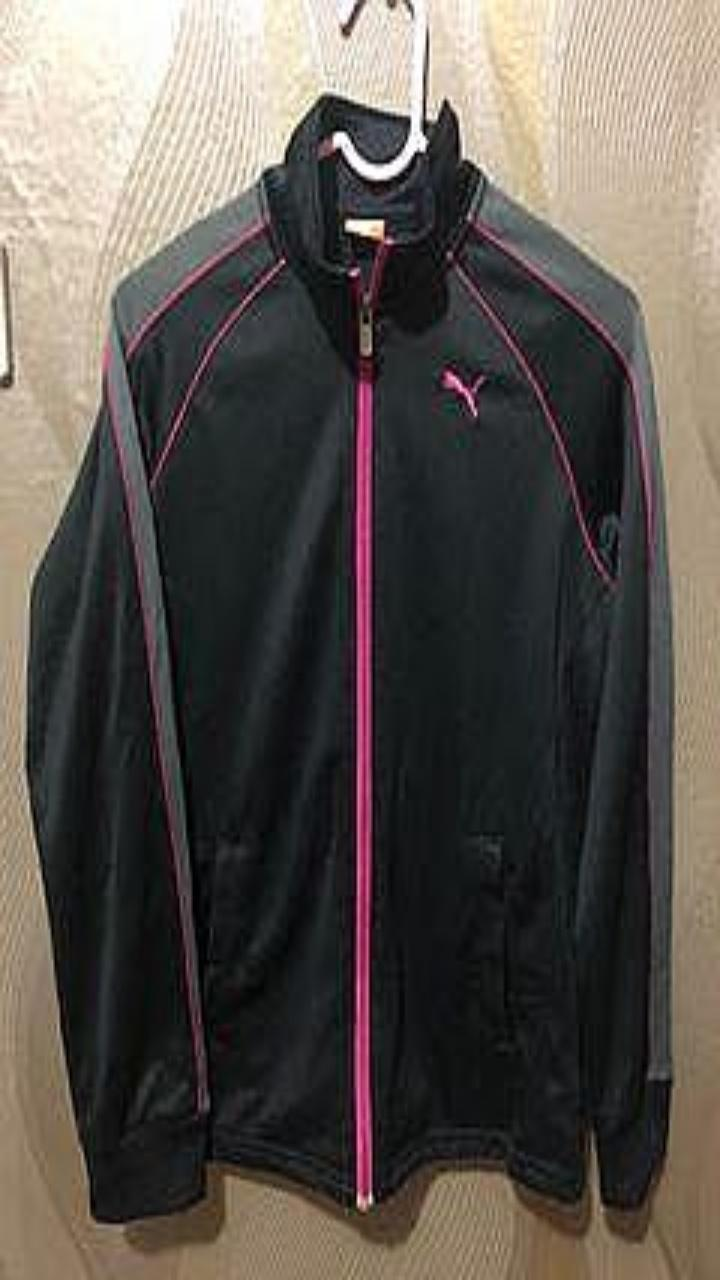Sports_Jacket: (26, 92, 672, 1221)
